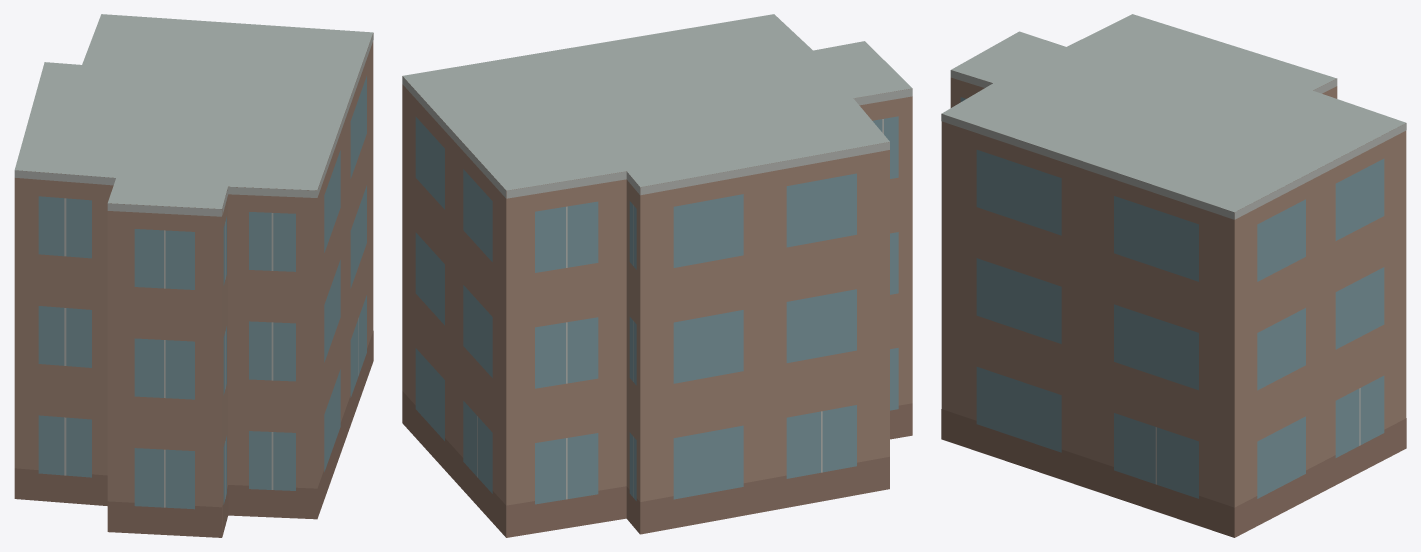
Rendered from survey-upis-32581186.glb.
3 views of the same model, side by side, from view 1: azimuth 30°, elevation 25°; view 2: azimuth 150°, elevation 25°; view 3: azimuth 270°, elevation 25° (orthographic). The views are drawn at different scales.
Visible parts, largest first — view 1: survey-upis-32581186.tmp; view 2: survey-upis-32581186.tmp; view 3: survey-upis-32581186.tmp.
Boxes of the visible parts, x1,y1,x2,y2 form: survey-upis-32581186.tmp: [14, 14, 373, 537]; survey-upis-32581186.tmp: [402, 14, 912, 537]; survey-upis-32581186.tmp: [941, 14, 1406, 537].
Bounding box in the file's own units: 13.72 × 10.5 × 13.6.
